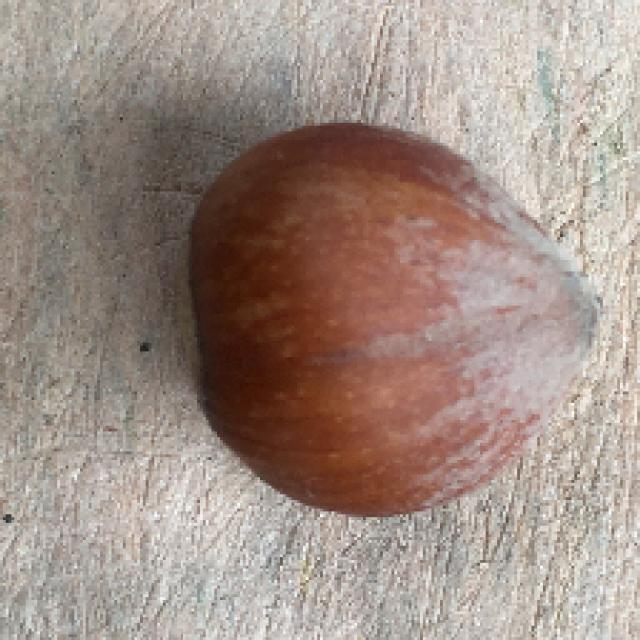QualityHazelnut: (170, 120, 607, 516)
